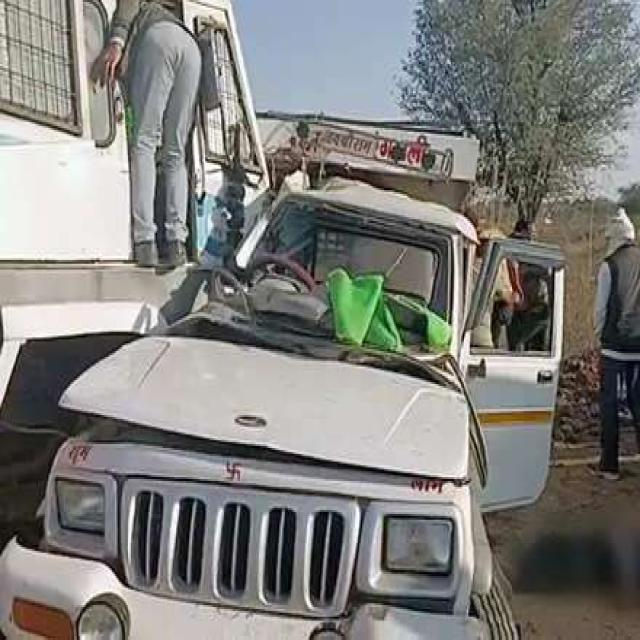accident: (0, 185, 564, 636)
